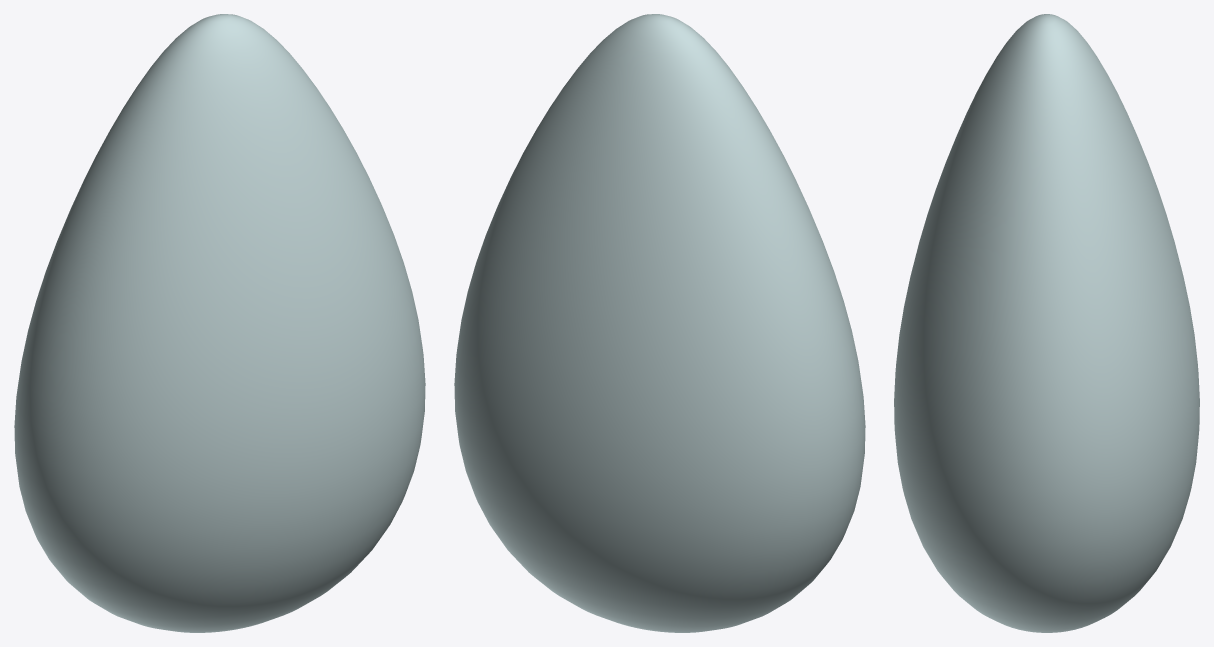
3 renders of one model, left to right at view 1: azimuth 30°, elevation 25°; view 2: azimuth 150°, elevation 25°; view 3: azimuth 270°, elevation 25°, orthographic.
Visible parts, largest first — view 1: standing-drop; view 2: standing-drop; view 3: standing-drop.
Boxes of the visible parts, x1=… form: standing-drop: x1=14, y1=14, x2=425, y2=632; standing-drop: x1=454, y1=14, x2=865, y2=632; standing-drop: x1=894, y1=14, x2=1199, y2=632.
Bounding box in the file's own units: 1.26 × 1.9 × 0.8895.
